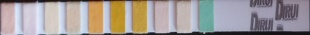color 1: (2, 4, 13, 33)
color 10: (199, 2, 212, 29)
color 2: (24, 4, 36, 33)
color 3: (46, 3, 58, 33)
color 4: (67, 3, 79, 33)
color 5: (89, 2, 102, 33)
color 6: (112, 2, 123, 32)
color 7: (133, 2, 146, 32)
color 8: (156, 2, 167, 31)
color 9: (177, 3, 188, 31)
